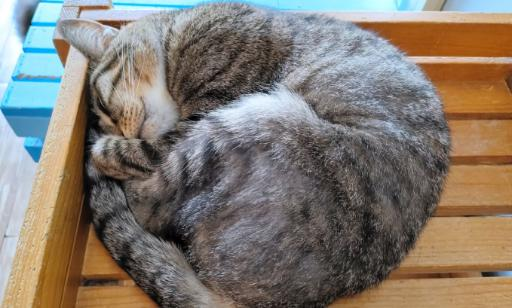cat_sleeping: (57, 2, 450, 307)
